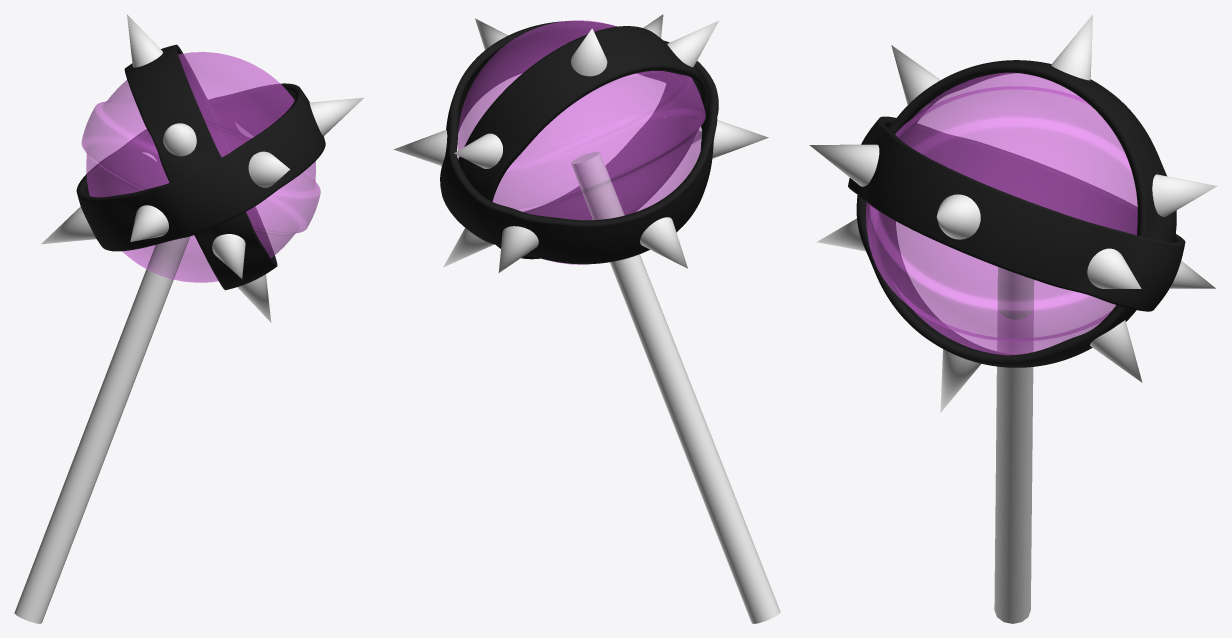
The model's file is lolipop_animation.glb.
3 views of the same model, side by side, from view 1: azimuth 30°, elevation 25°; view 2: azimuth 150°, elevation 25°; view 3: azimuth 270°, elevation 25° (orthographic). The views are drawn at different scales.
Visible parts, largest first — view 1: pop, lenta 2, stick, lenta 1, chrome_2, chrome_1.001; view 2: pop, lenta 1, lenta 2, stick, chrome_2, chrome_1.001; view 3: pop, lenta 2, lenta 1, stick, chrome_1.001, chrome_2.
Boxes of the visible parts, x1=… form: pop: x1=81, y1=52, x2=320, y2=282; lenta 2: x1=76, y1=83, x2=325, y2=251; stick: x1=14, y1=236, x2=189, y2=623; lenta 1: x1=124, y1=44, x2=277, y2=290; chrome_2: x1=41, y1=97, x2=363, y2=244; chrome_1.001: x1=127, y1=14, x2=271, y2=322; pop: x1=457, y1=20, x2=705, y2=264; lenta 1: x1=458, y1=26, x2=708, y2=259; lenta 2: x1=440, y1=21, x2=718, y2=264; stick: x1=571, y1=151, x2=780, y2=623; chrome_2: x1=393, y1=14, x2=768, y2=272; chrome_1.001: x1=443, y1=21, x2=718, y2=267; pop: x1=866, y1=72, x2=1137, y2=355; lenta 2: x1=848, y1=116, x2=1185, y2=311; lenta 1: x1=856, y1=60, x2=1176, y2=367; stick: x1=994, y1=267, x2=1034, y2=623; chrome_1.001: x1=816, y1=14, x2=1217, y2=412; chrome_2: x1=809, y1=144, x2=1215, y2=288.
Size of the model in its own units: 1.69 by 2.82 by 1.53.
